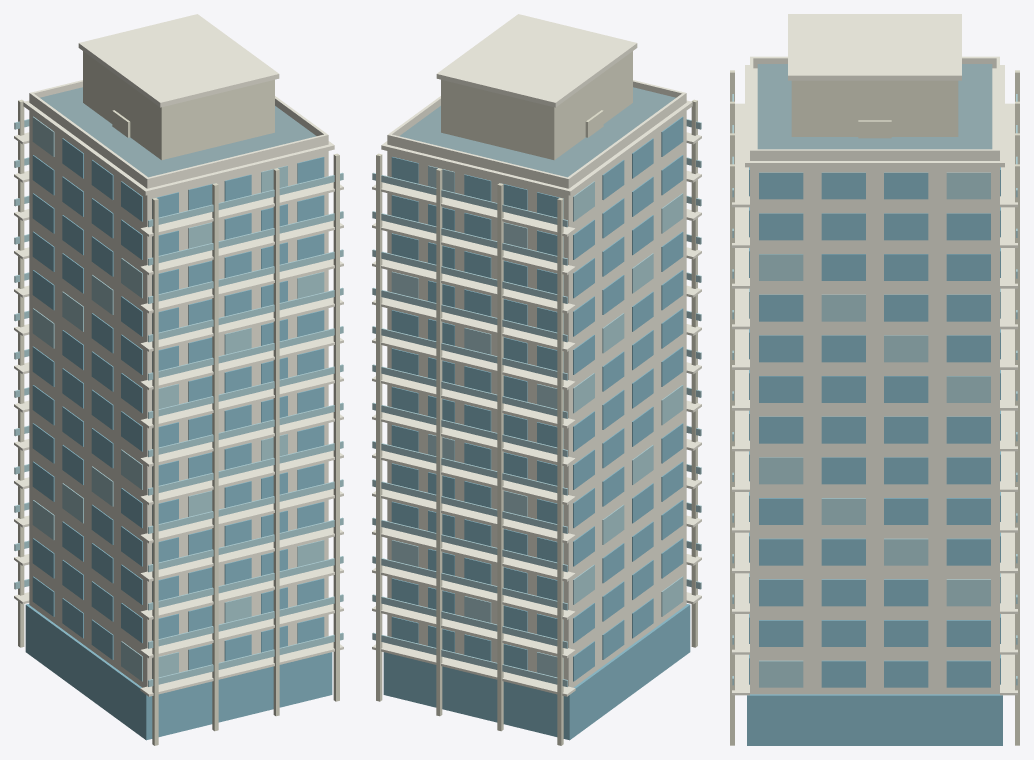
Rendered from building-e.glb.
3 renders of one model, left to right at view 1: azimuth 30°, elevation 25°; view 2: azimuth 150°, elevation 25°; view 3: azimuth 270°, elevation 25°, orthographic. The views are drawn at different scales.
Visible parts, largest first — view 1: Sora_Building_E_Surface; view 2: Sora_Building_E_Surface; view 3: Sora_Building_E_Surface.
Part boxes in pixels (x1=…): Sora_Building_E_Surface: x1=14, y1=14, x2=343, y2=745; Sora_Building_E_Surface: x1=372, y1=14, x2=701, y2=745; Sora_Building_E_Surface: x1=730, y1=14, x2=1019, y2=745.
Bounding box in the file's own units: 17.2 × 51.85 × 20.85.
